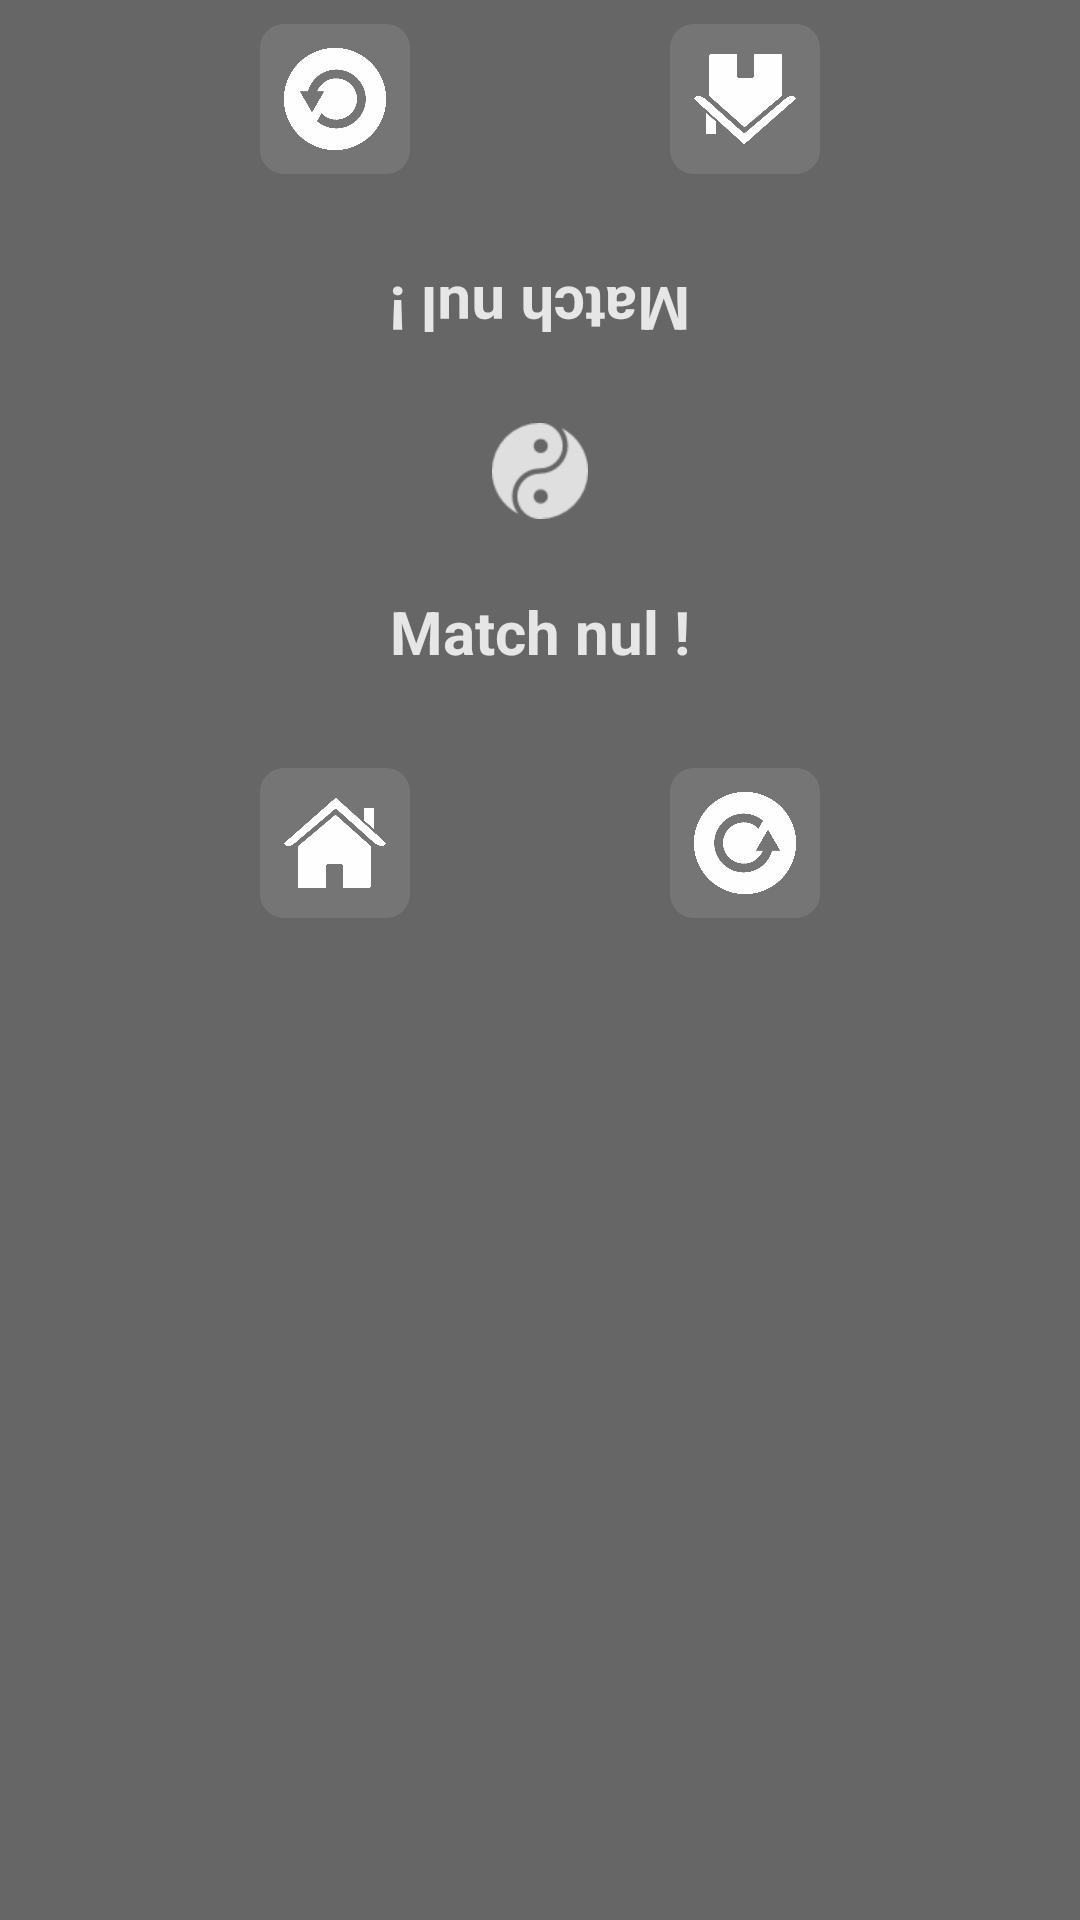

Where icons sit on this 1080x1920 app screen, as (x1, y1, x2, y2):
yin yang: (492, 423, 588, 519)
